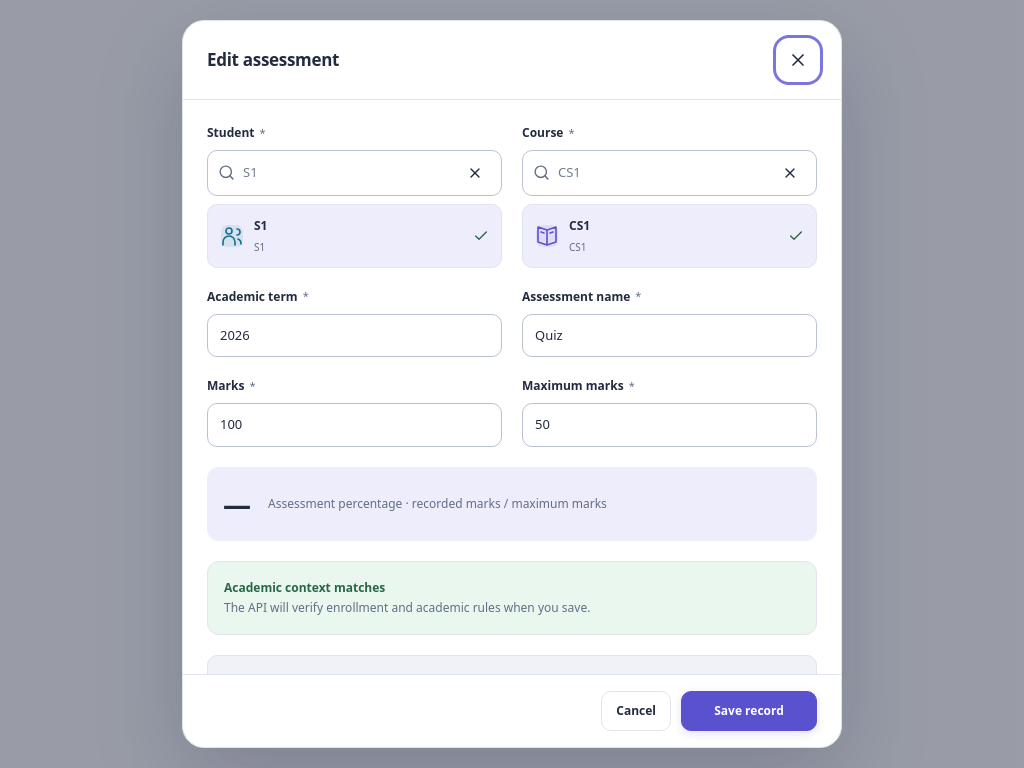
Test case: Academic forms › rejects marks above maximum before sending a write
What coordinates should you click on to do the following:
click the button "Save record"
I would click on:
 (749, 711)
Its box is top-left (681, 691), bottom-right (817, 731).
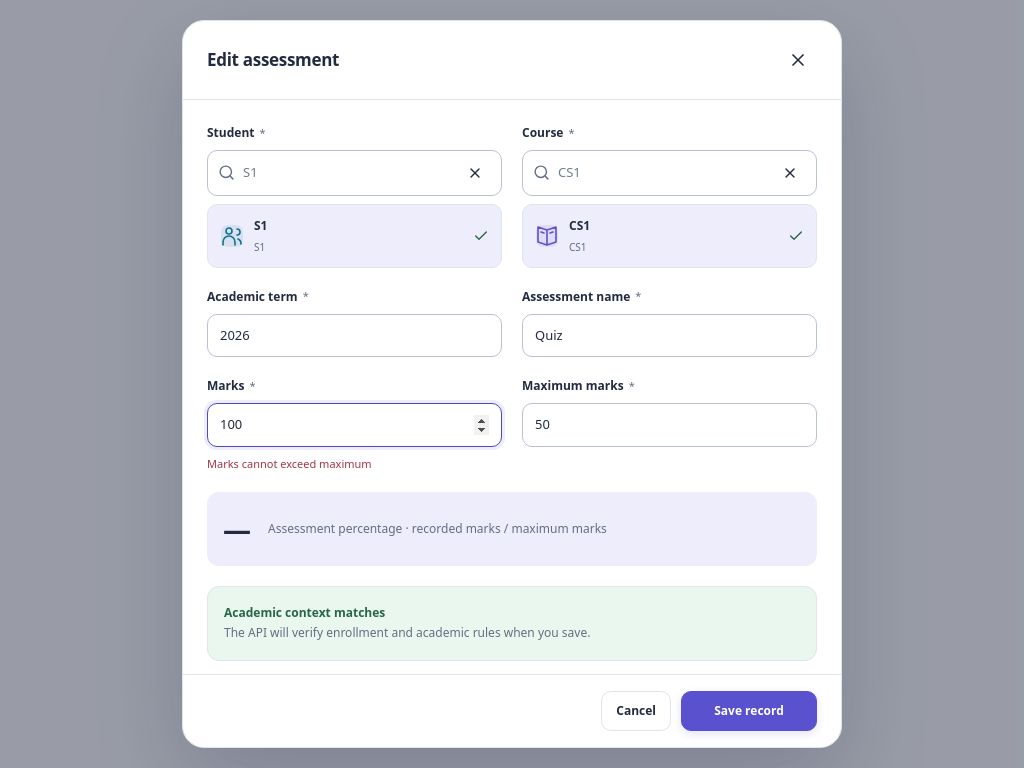
expect the text "Marks cannot exceed maximum" is shown: met, box top-left (207, 456), bottom-right (372, 470)
